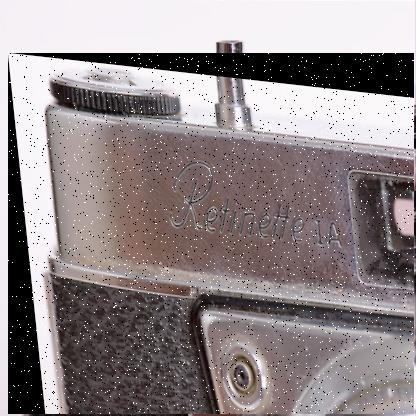Camera: (9, 54, 416, 416)
